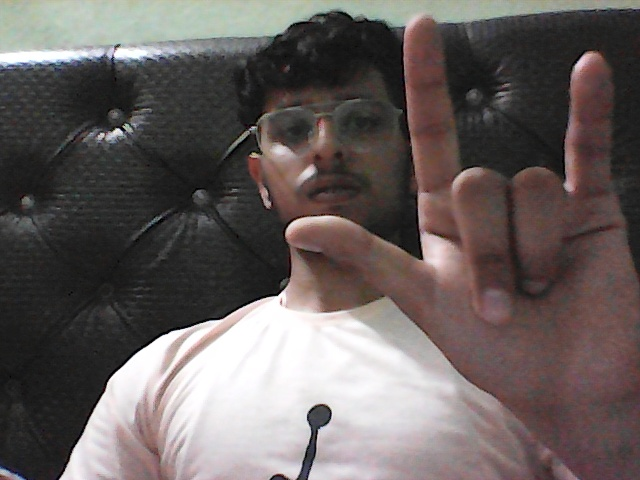iloveyou: (269, 8, 640, 441)
